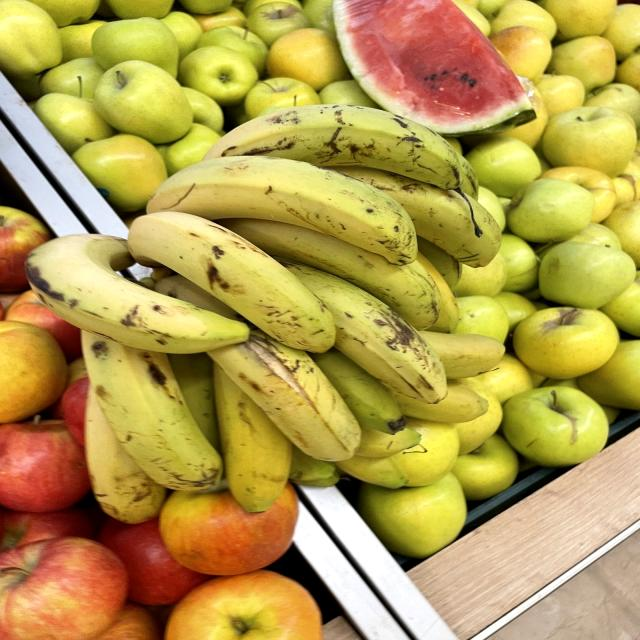banana: (146, 157, 426, 268)
